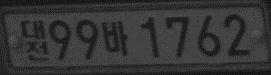1: (138, 16, 163, 58)
2: (223, 13, 251, 56)
6: (196, 15, 222, 57)
7: (165, 16, 190, 56)
9: (75, 18, 99, 59), (48, 19, 72, 59)
대전_V: (19, 18, 49, 62)
바: (101, 19, 129, 55)
